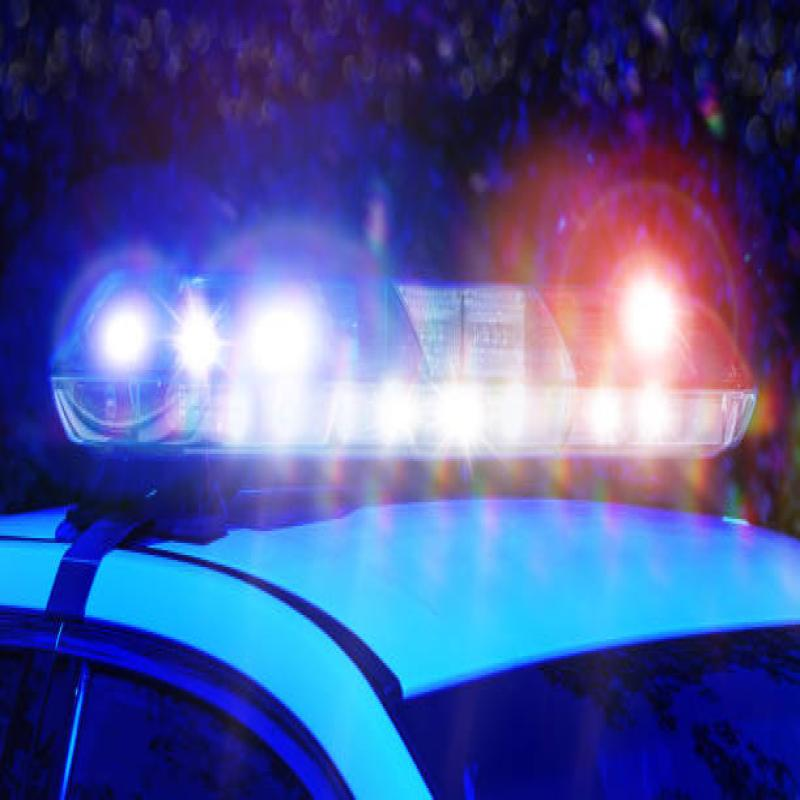AmbulanceSiren: (42, 244, 766, 520)
